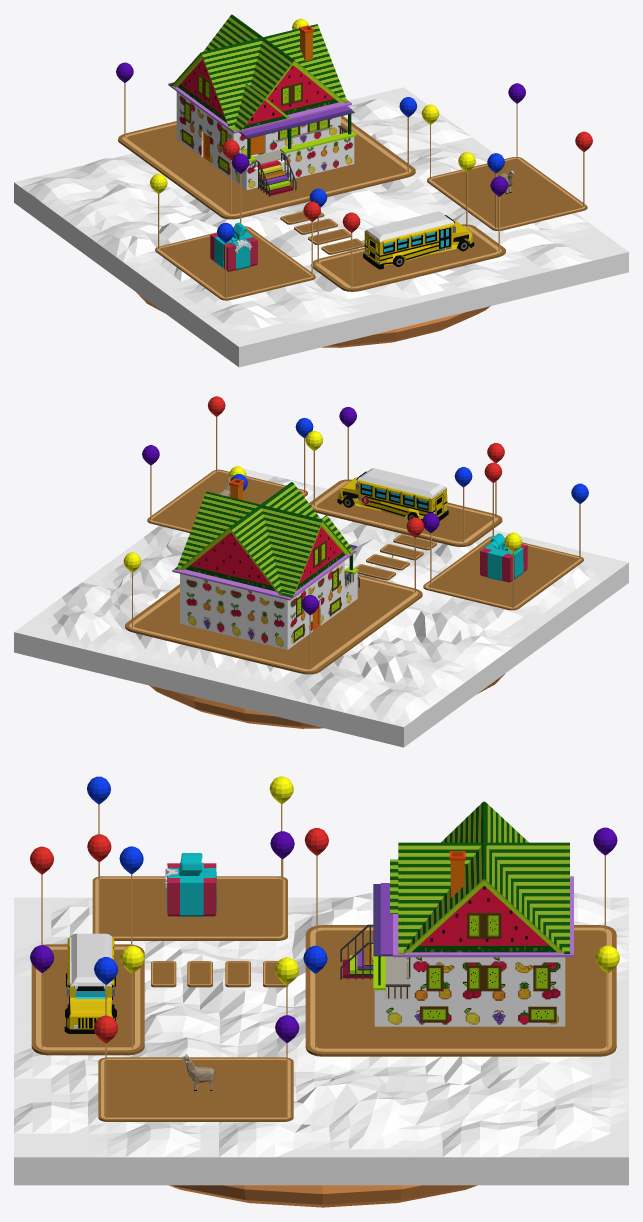
The picture shows the model from 3 angles, top to bottom: view 1: azimuth 30°, elevation 25°; view 2: azimuth 150°, elevation 25°; view 3: azimuth 270°, elevation 25°; orthographic projection. The views are drawn at different scales.
Visible parts, largest first — view 1: Cube.013, Cube.1063, VEHICLES_SCHOOL_BUS, UNDERGROUND_PIZZA, OBJRANDOM_GIANT_PRESENT; view 2: Cube.013, Cube.1063, VEHICLES_SCHOOL_BUS, UNDERGROUND_PIZZA, OBJRANDOM_GIANT_PRESENT; view 3: Cube.013, Cube.1063, UNDERGROUND_PIZZA, VEHICLES_SCHOOL_BUS, OBJRANDOM_GIANT_PRESENT.
Part boxes in pixels (box(x1,y1,x2,y2)): Cube.013: box(14, 18, 628, 367); Cube.1063: box(168, 14, 356, 196); VEHICLES_SCHOOL_BUS: box(363, 211, 474, 269); UNDERGROUND_PIZZA: box(136, 292, 490, 347); OBJRANDOM_GIANT_PRESENT: box(210, 222, 257, 271); Cube.013: box(14, 396, 628, 747); Cube.1063: box(172, 478, 359, 649); VEHICLES_SCHOOL_BUS: box(337, 468, 448, 520); UNDERGROUND_PIZZA: box(149, 673, 505, 728); OBJRANDOM_GIANT_PRESENT: box(480, 533, 527, 582); Cube.013: box(14, 776, 628, 1185); Cube.1063: box(340, 801, 573, 1026); UNDERGROUND_PIZZA: box(169, 1185, 477, 1207); VEHICLES_SCHOOL_BUS: box(64, 933, 116, 1033); OBJRANDOM_GIANT_PRESENT: box(165, 853, 216, 916).
Bounding box in the file's own units: 4000 × 1899 × 4000.
39 materials, 3 textured.
